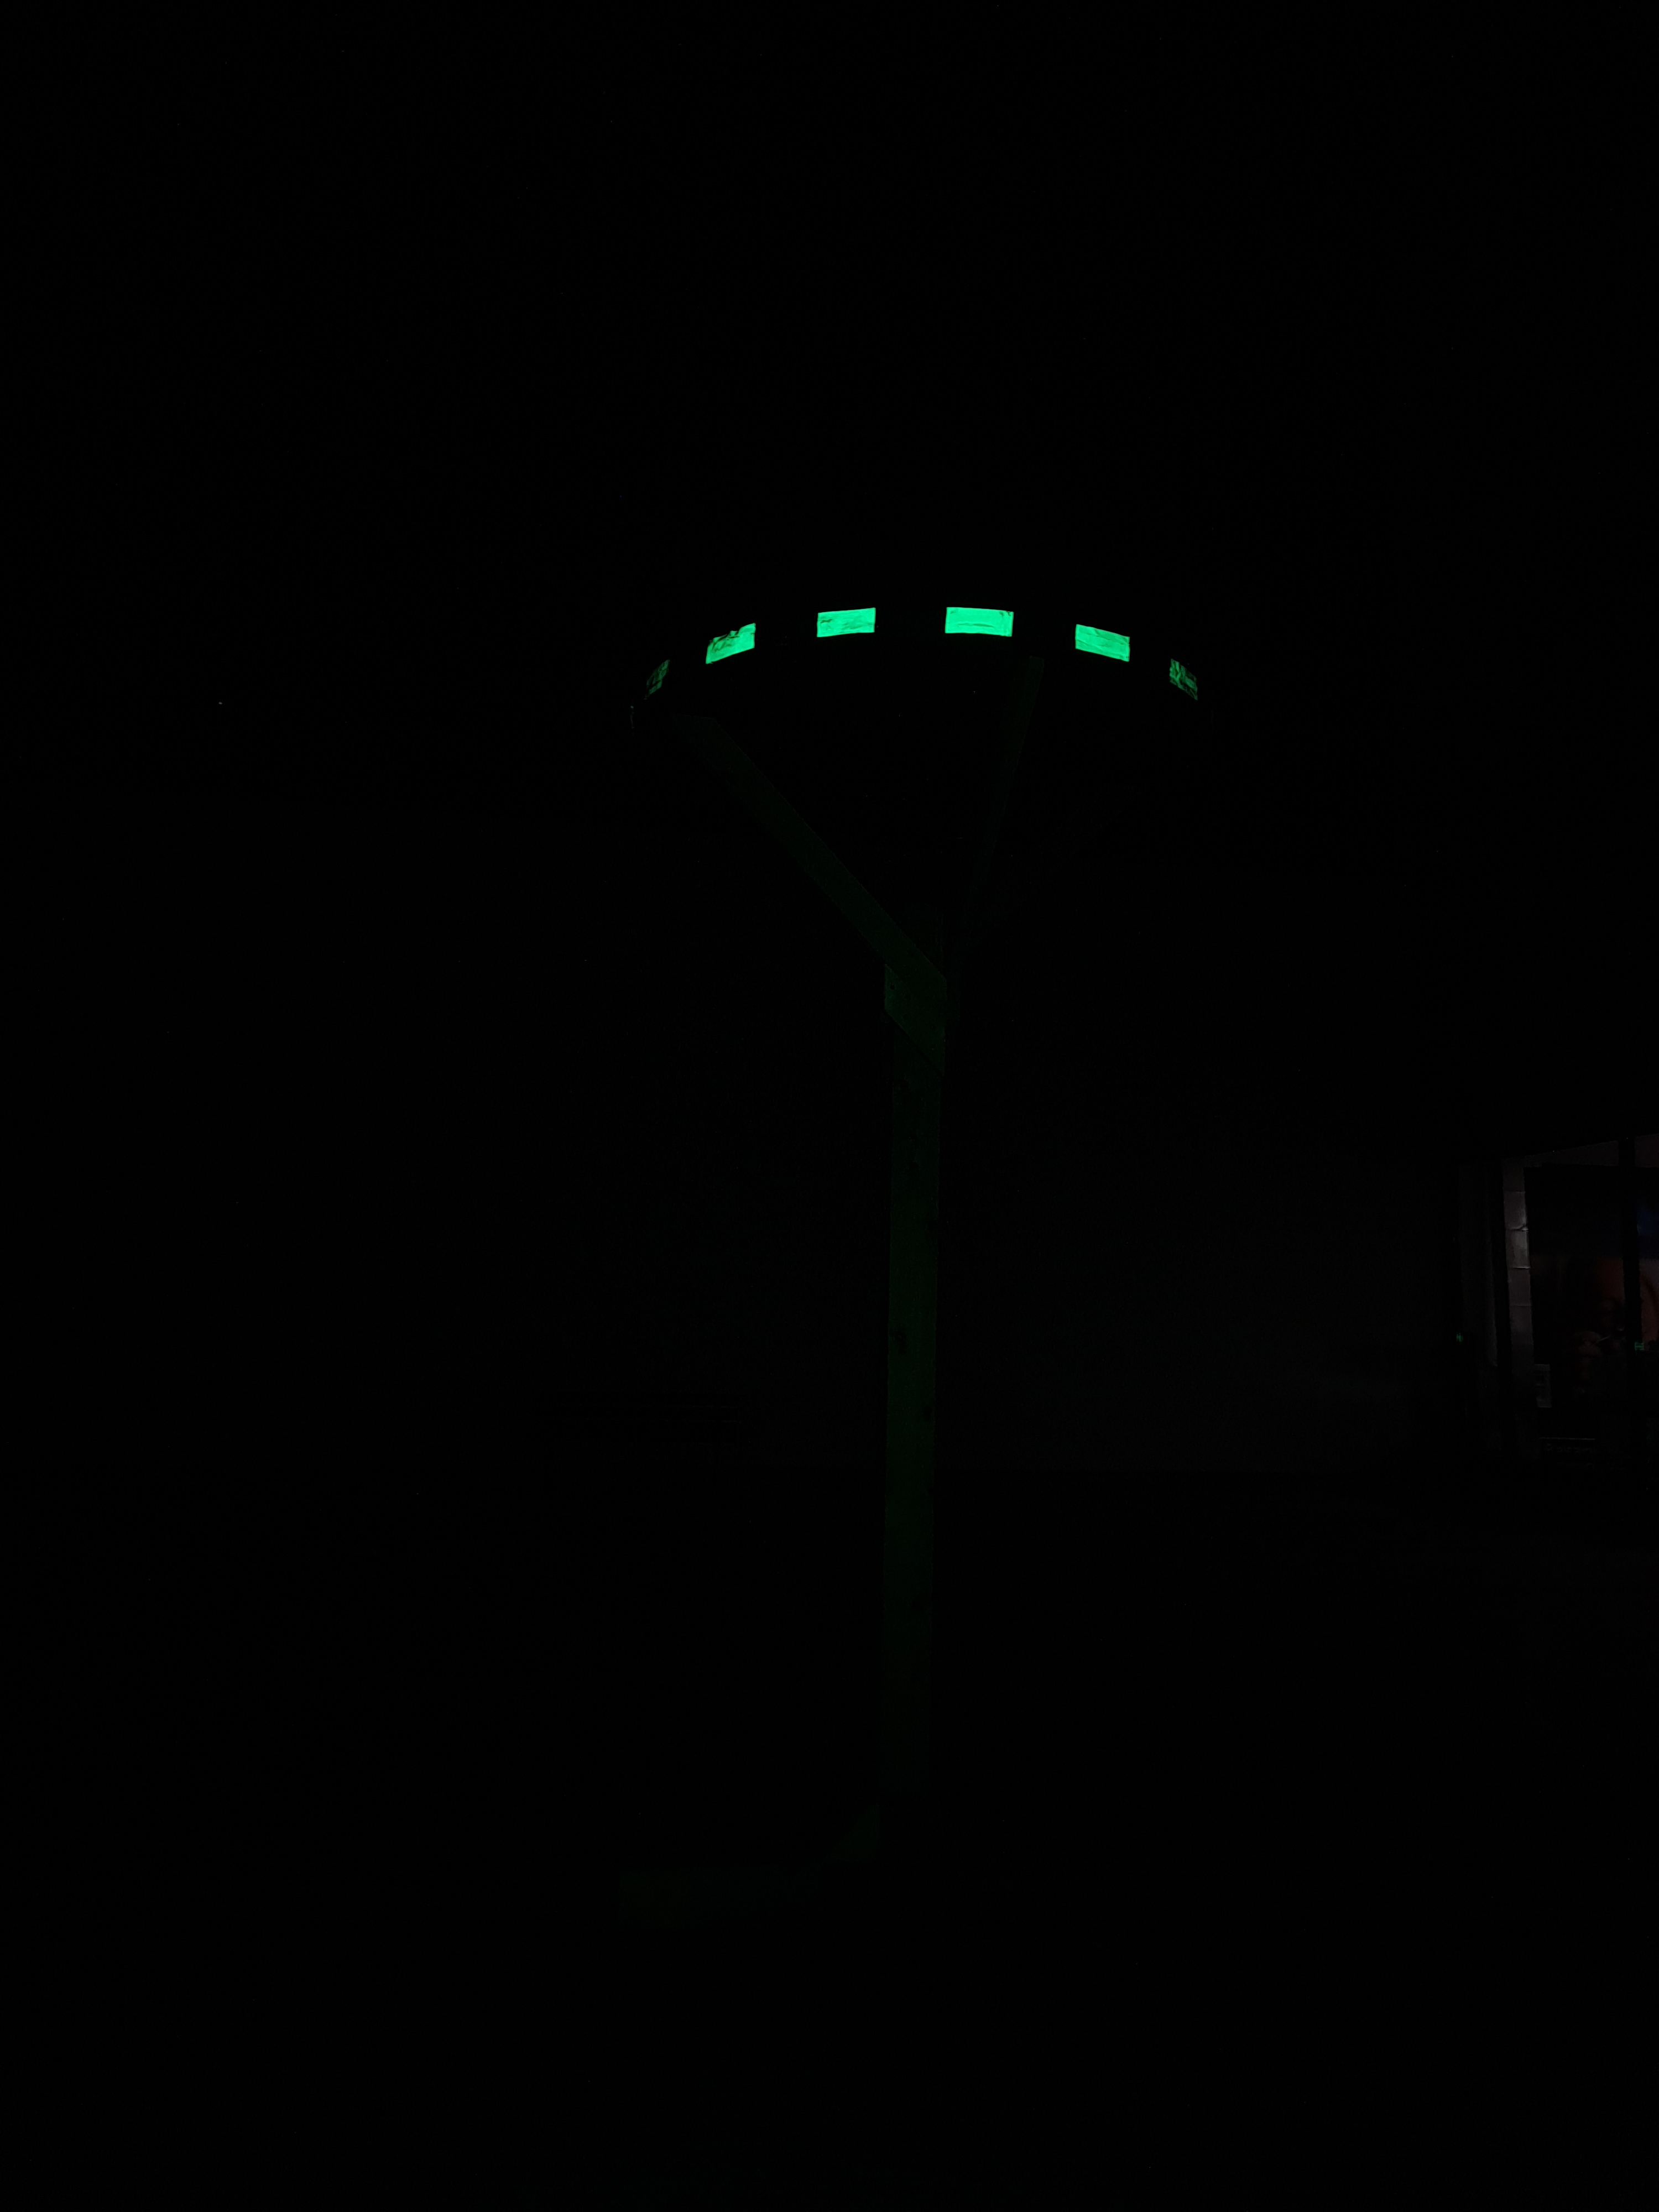hoop: (701, 590, 1202, 707)
